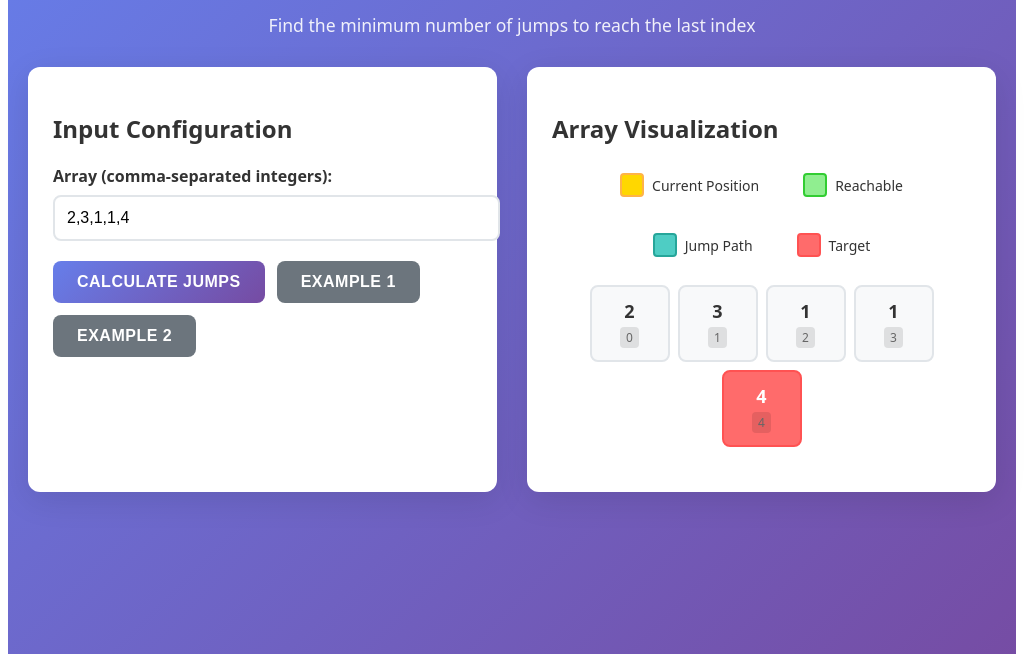
Test case: JumpGame Component › calculates jumps for default example
Click the button with test id "calculate-btn".
click(159, 282)  # box [53, 261, 265, 303]
(page scrolled)
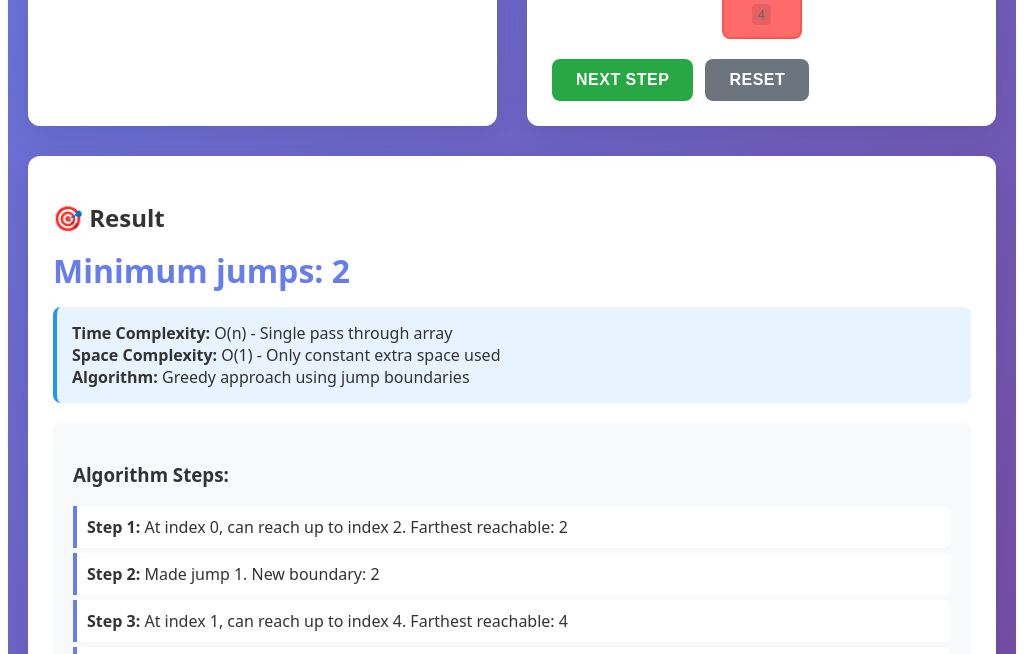
Expected: the text with test id "result-value" reads "Minimum jumps: 2", [53, 249, 350, 292]
